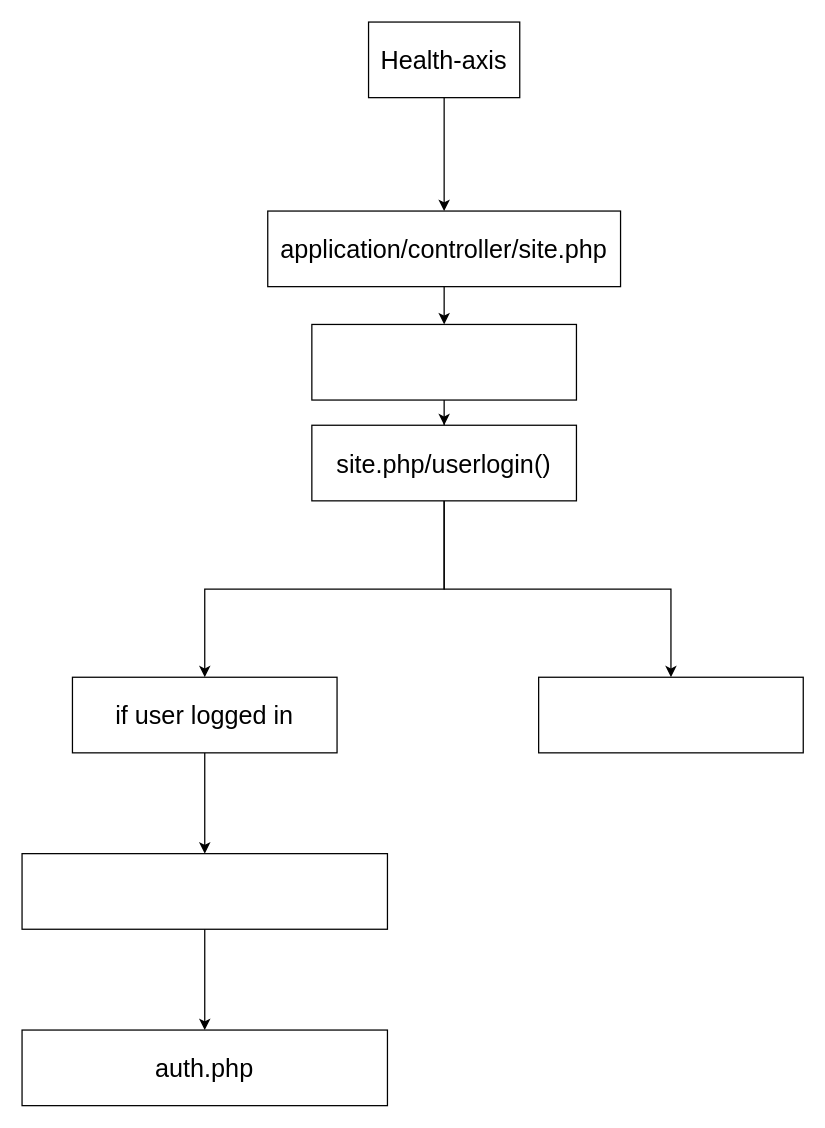
Image size: 825x1128. Some labels were removed from this diagram. The box of each missing label's shape, as (x1, y1, x2, y2) in pixels:
application/libraries/auth.php: (21, 852, 387, 929)
if user not logged in: (537, 676, 803, 753)
site.php: (311, 323, 576, 400)
